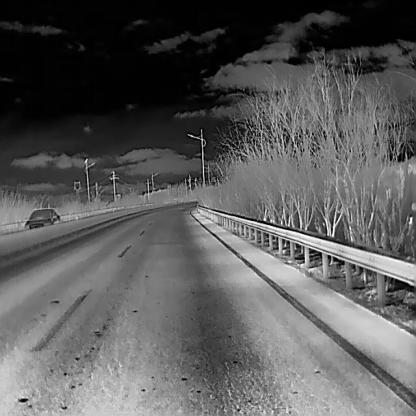car: (24, 208, 60, 228)
